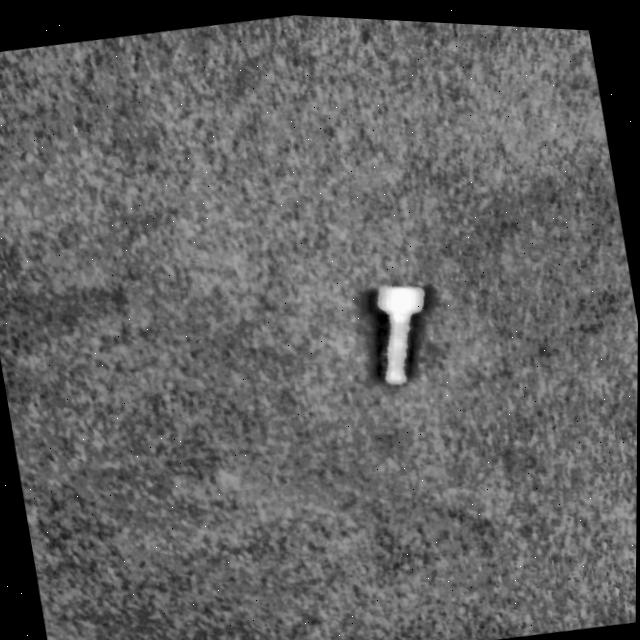Socket head cap screw: (362, 272, 443, 385)
